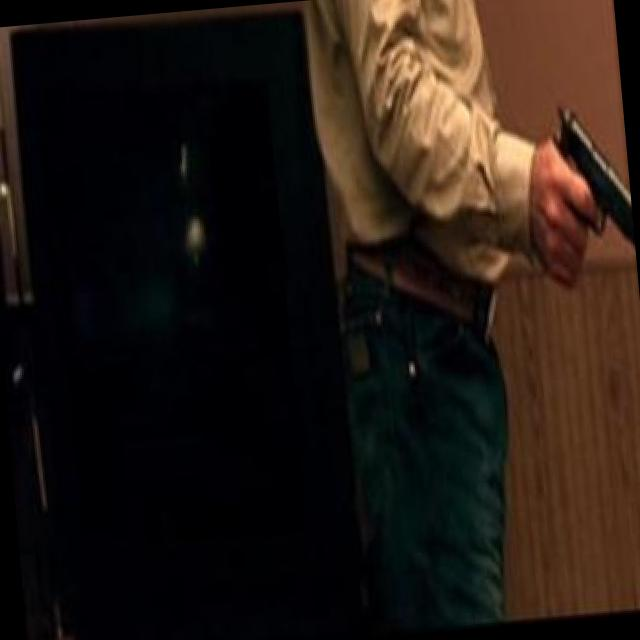Guns: (525, 84, 640, 310)
